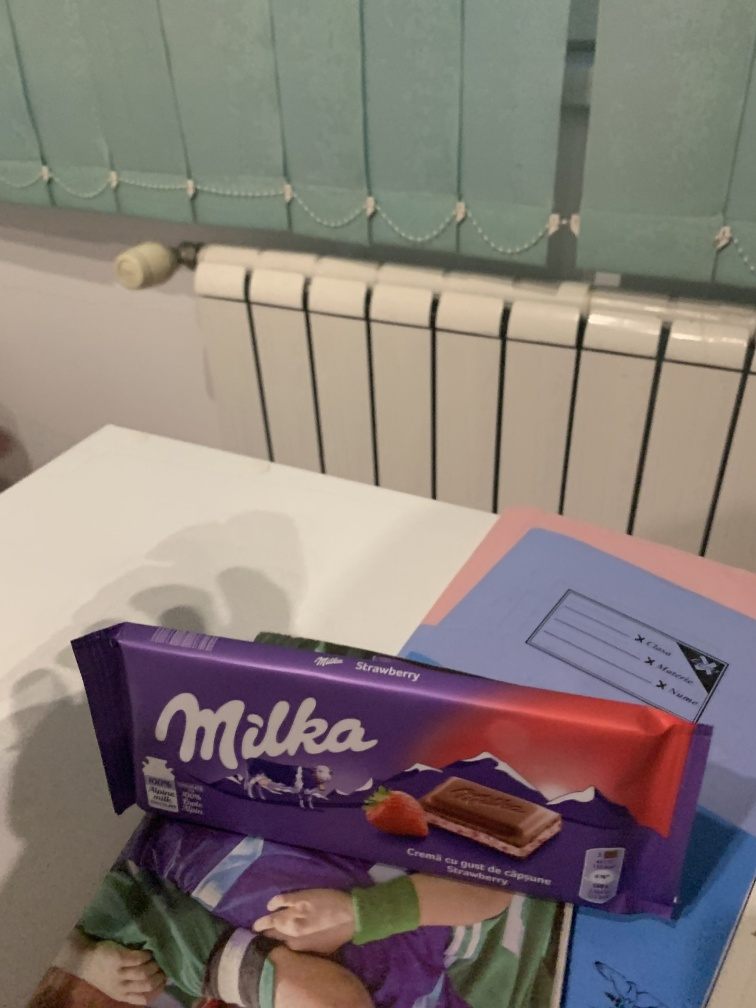milka: (47, 622, 717, 934)
